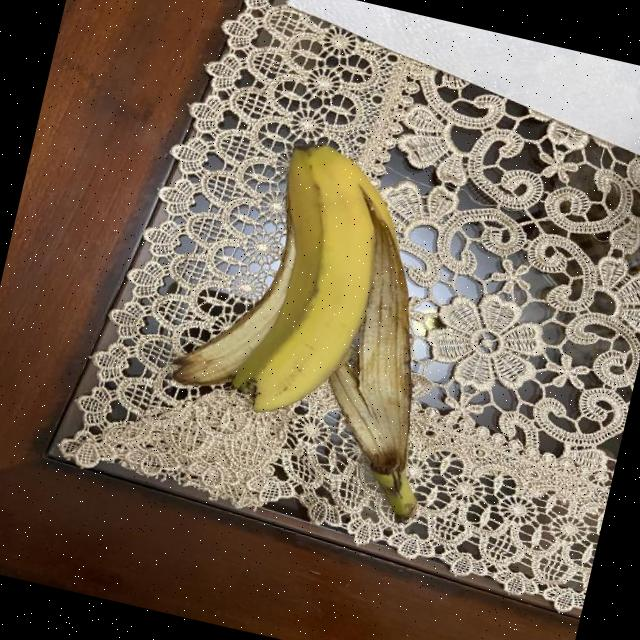banana-peel: (150, 120, 492, 521), (287, 177, 486, 520), (226, 135, 401, 430)
